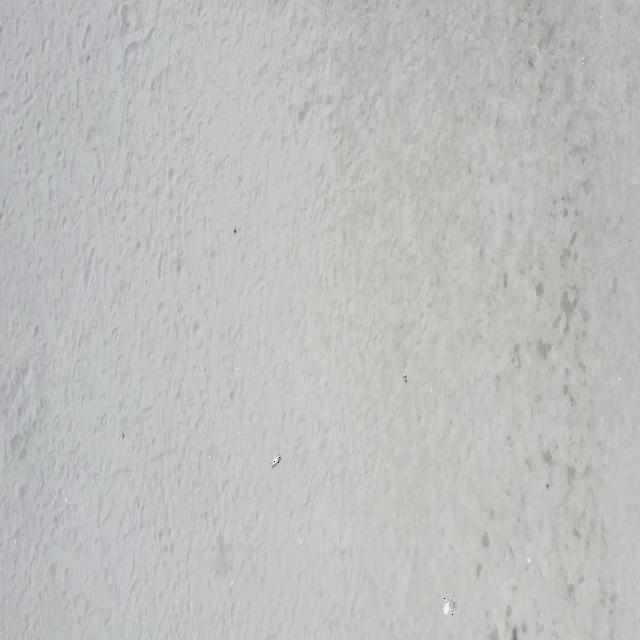glass: (442, 590, 455, 617), (271, 453, 281, 468), (402, 373, 408, 383)
